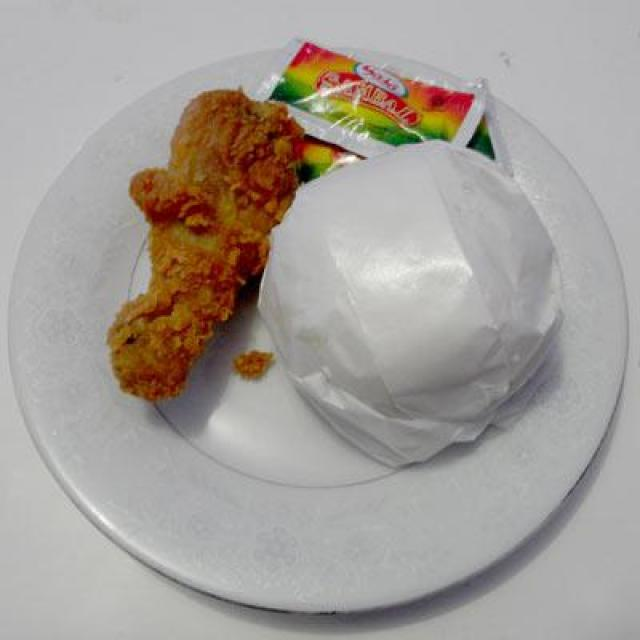Frango: (104, 83, 307, 410)
